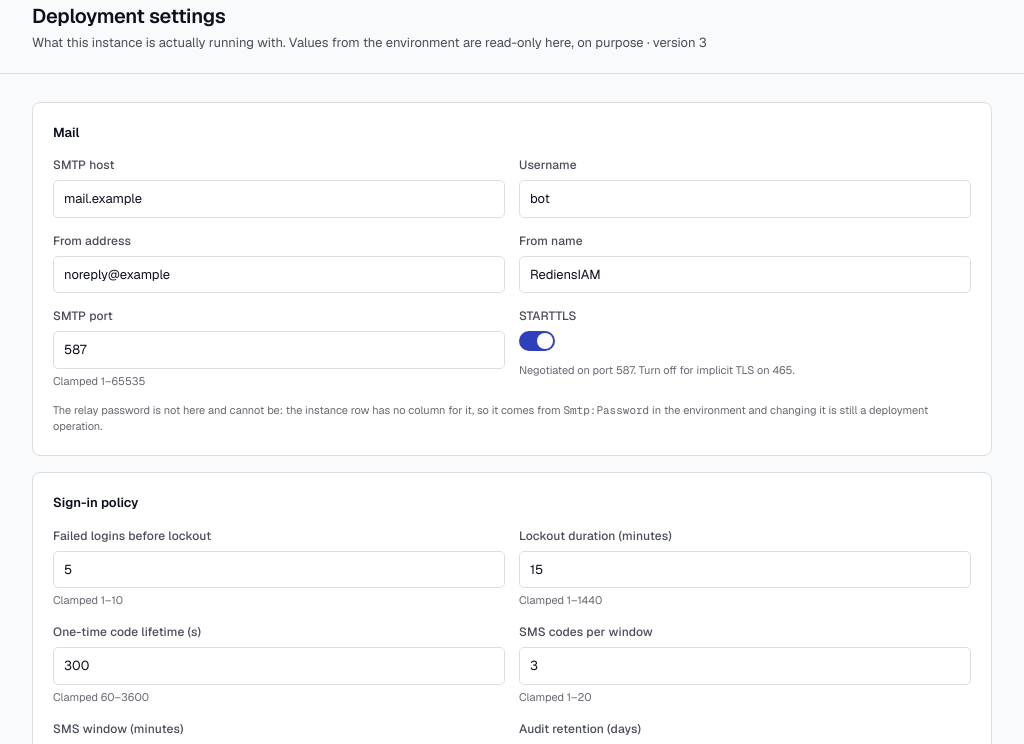
Test case: saving › says nothing was changed when the save fails
Replace the text in the number field labelled "Lockout duration (minutes)" with "42": (745, 570) [519,551,971,588]
(page scrolled)
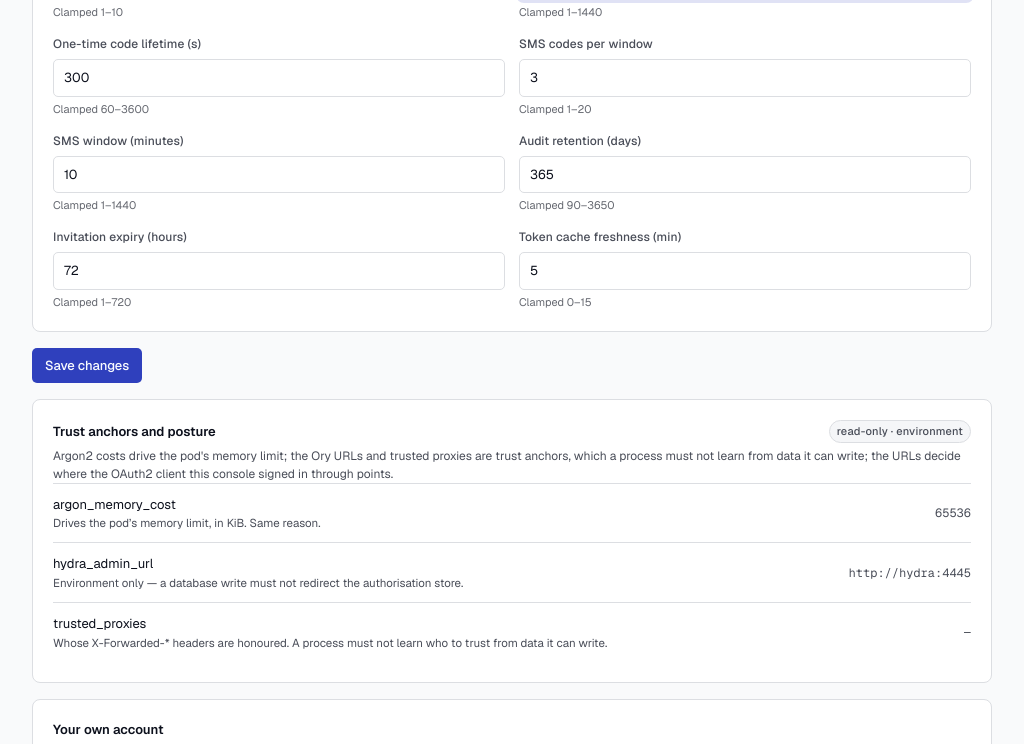
Click the button "Save changes": (87, 365) [32,348,142,383]
(page scrolled)
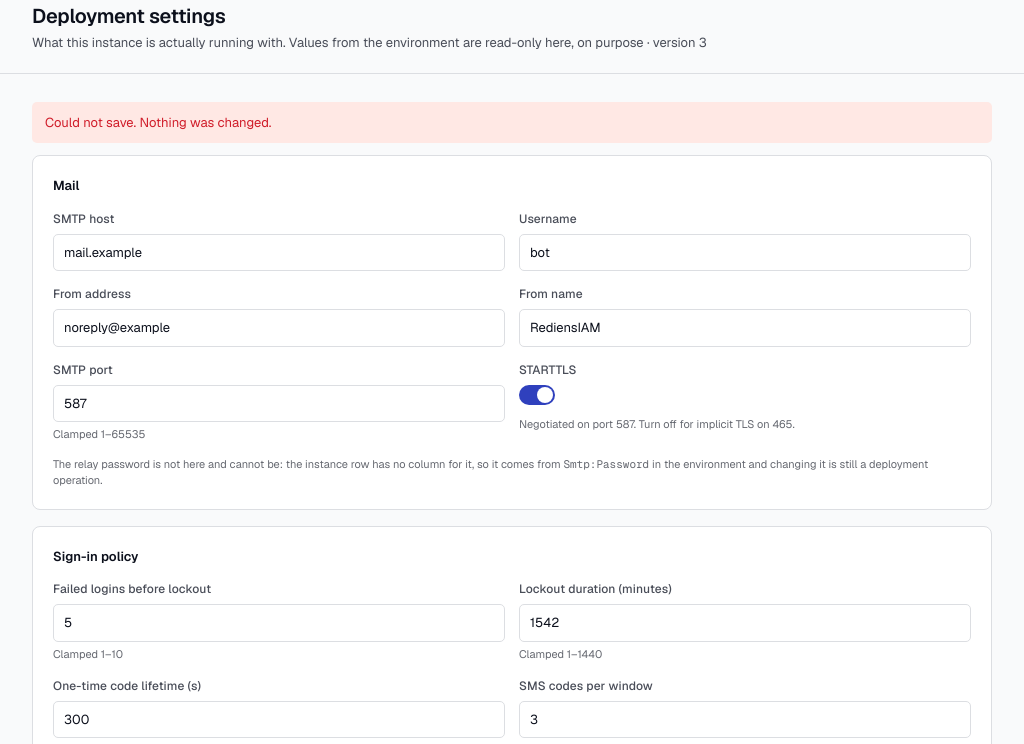
Now the text "Could not save. Nothing was changed." is shown, box [32,102,992,143]
